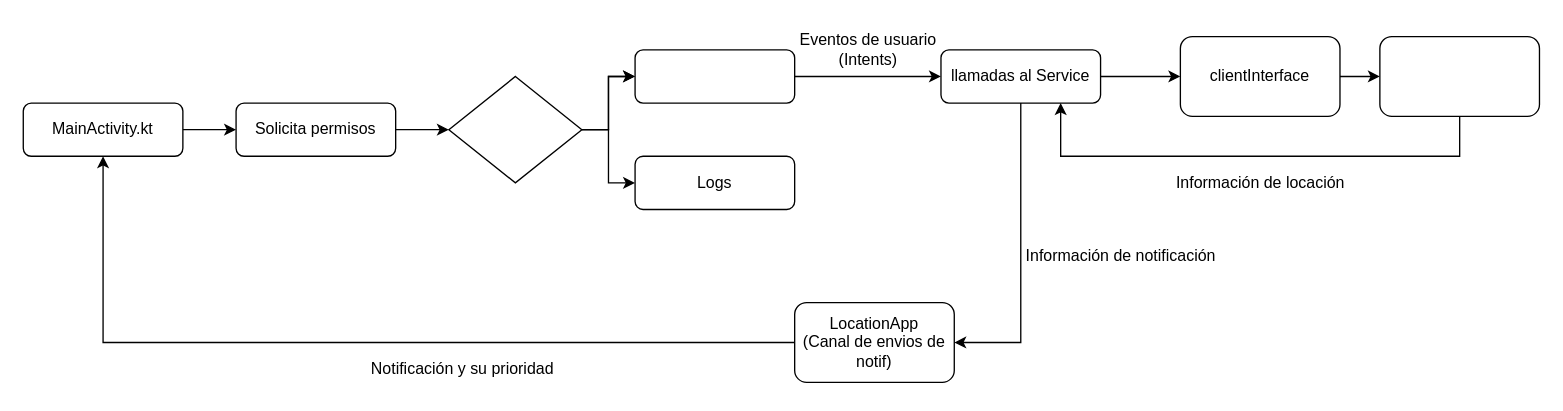
Some shapes in this 1563 by 411 pixel diagram are drawn without their labels. The shapes that lost their labels are listed below. From the top down, each one's centre as x and y in pixels, then its label:
At point (714, 76): "Levanta la UI".
At point (1459, 75): "metodos de la clase de Client".
At point (515, 129): "Tiene permisos?".
